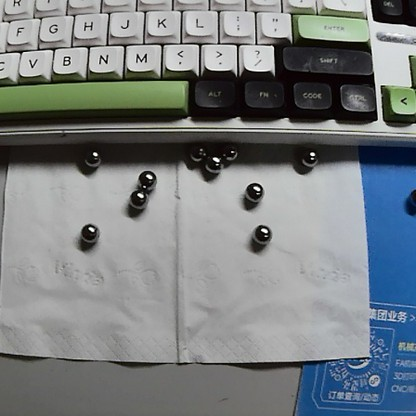ironball: (121, 188, 152, 212), (75, 217, 104, 242), (132, 161, 156, 191), (82, 148, 106, 173), (242, 178, 265, 203), (296, 148, 318, 168), (221, 142, 240, 165), (251, 223, 271, 243), (187, 142, 204, 163), (204, 157, 223, 174)
